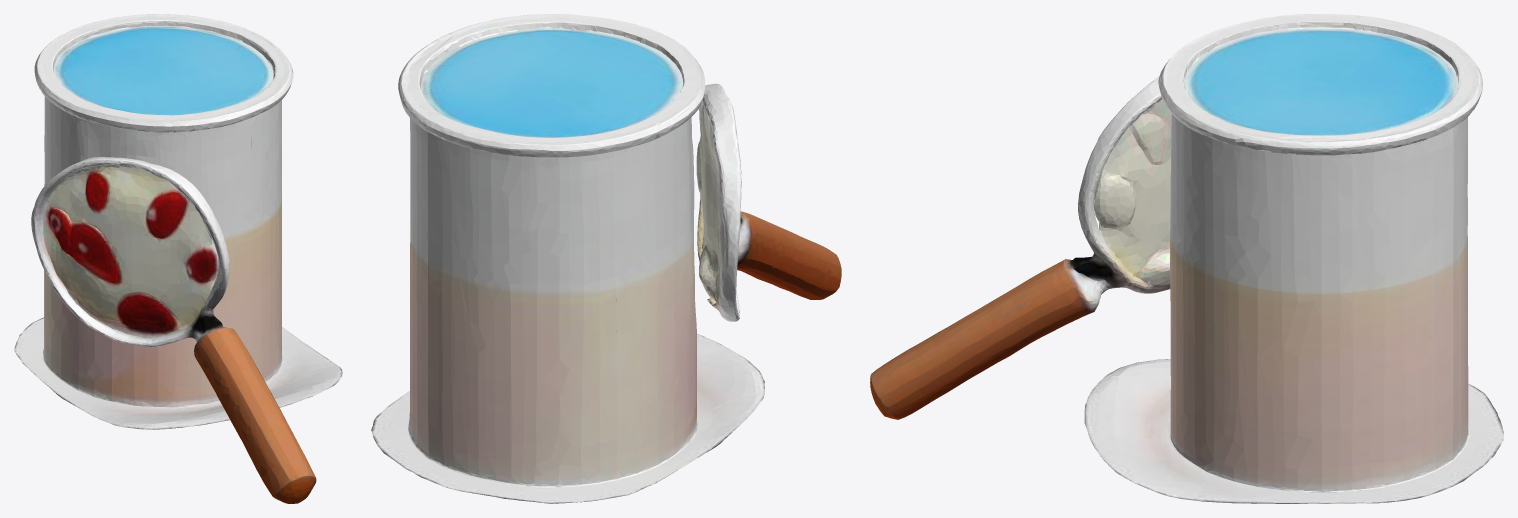
File: symptoms-kidney-cancer.glb
The picture shows the model from 3 angles, left to right: view 1: azimuth 30°, elevation 25°; view 2: azimuth 150°, elevation 25°; view 3: azimuth 270°, elevation 25°; orthographic projection. The views are drawn at different scales.
Visible parts, largest first — view 1: Symptoms; view 2: Symptoms; view 3: Symptoms.
Part boxes in pixels (x1=…): Symptoms: x1=14, y1=14, x2=342, y2=503; Symptoms: x1=371, y1=14, x2=841, y2=503; Symptoms: x1=870, y1=14, x2=1503, y2=503.
Size of the model in its own units: 0.5851 by 0.6356 by 0.9962.
Materials: 1 (1 with a texture image).
